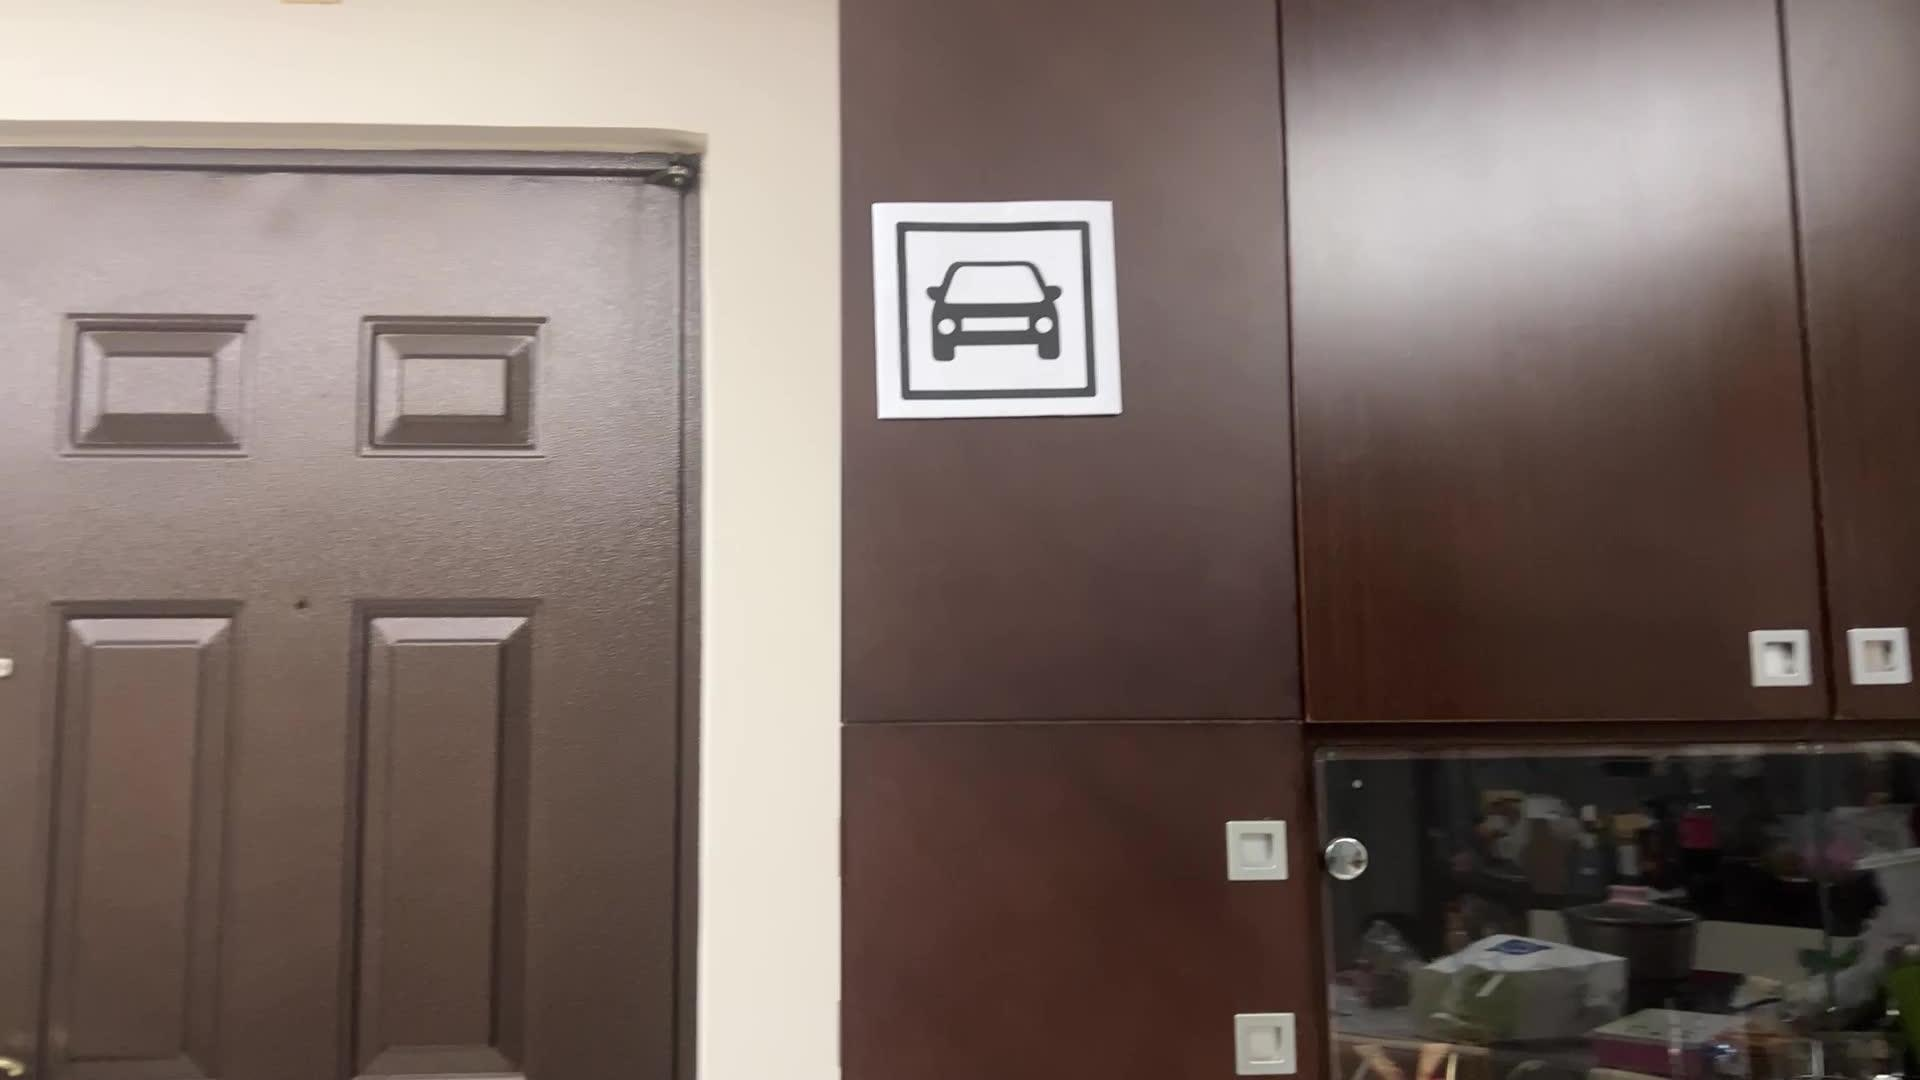car_img: (887, 212, 1102, 404)
